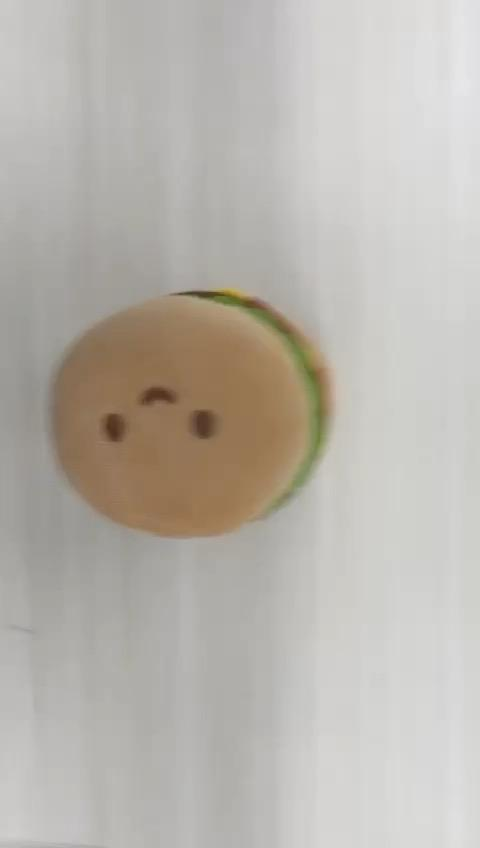hamburger: (54, 290, 339, 539)
